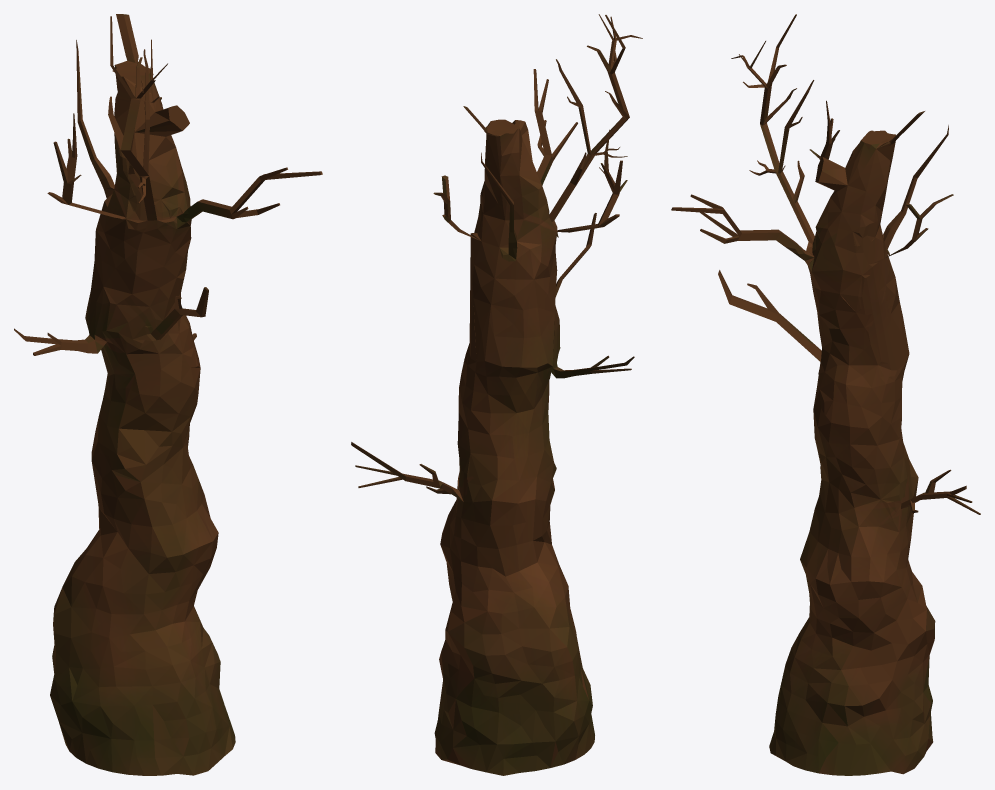
Rendered from ARVORE_1_normals.fbx.
The picture shows the model from 3 angles, left to right: view 1: azimuth 30°, elevation 25°; view 2: azimuth 150°, elevation 25°; view 3: azimuth 270°, elevation 25°; orthographic projection. The views are drawn at different scales.
Parts seen in each view (by area): view 1: arvore; view 2: arvore; view 3: arvore.
Part boxes in pixels (<box>): arvore: <box>14,14,322,775</box>; arvore: <box>351,14,642,775</box>; arvore: <box>671,14,980,775</box>.
Size of the model in its own units: 126 by 385 by 153.
